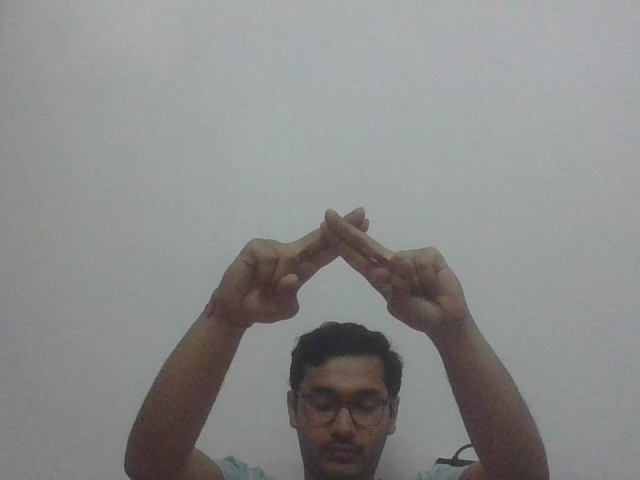F: (244, 204, 471, 334)
